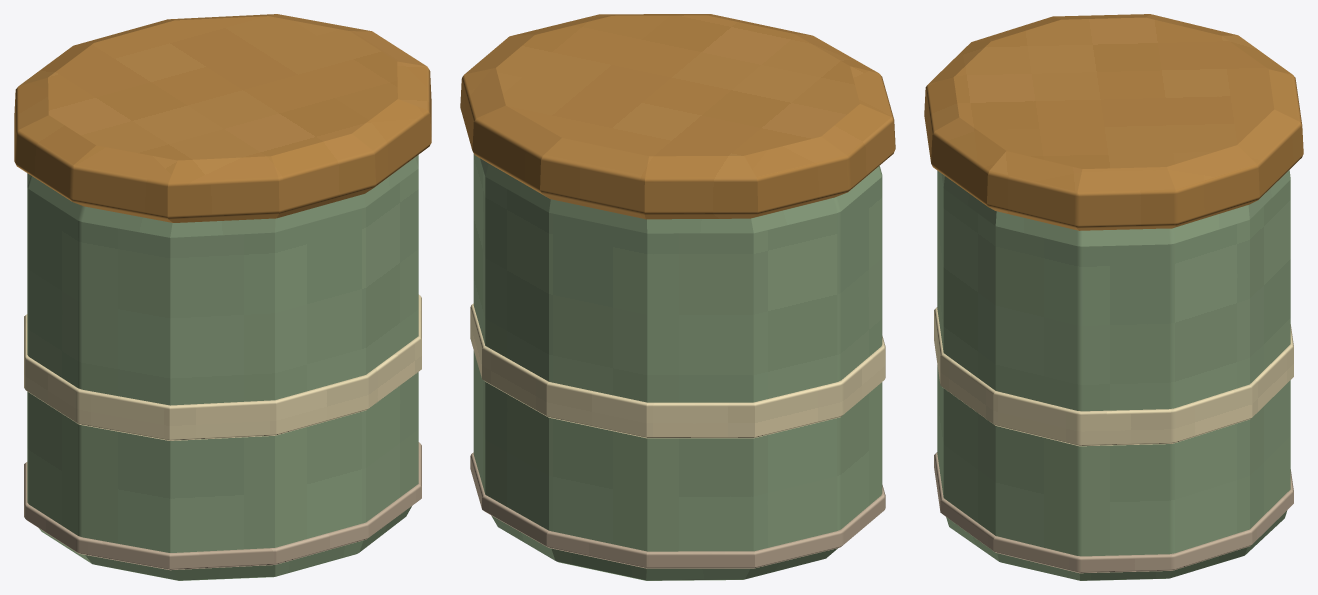
The model's file is BaySageTin.glb.
3 views of the same model, side by side, from view 1: azimuth 30°, elevation 25°; view 2: azimuth 150°, elevation 25°; view 3: azimuth 270°, elevation 25° (orthographic). The views are drawn at different scales.
Parts seen in each view (by area): view 1: BaySageTin.Tin, BaySageTin.Lid, BaySageTin.Enamel-stripe, BaySageTin.Base-seam; view 2: BaySageTin.Tin, BaySageTin.Lid, BaySageTin.Enamel-stripe, BaySageTin.Base-seam; view 3: BaySageTin.Tin, BaySageTin.Lid, BaySageTin.Enamel-stripe, BaySageTin.Base-seam.
Boxes of the visible parts, x1,y1,x2,y2 form: BaySageTin.Tin: [27, 155, 418, 580]; BaySageTin.Lid: [14, 14, 431, 222]; BaySageTin.Enamel-stripe: [24, 294, 421, 440]; BaySageTin.Base-seam: [24, 442, 421, 570]; BaySageTin.Tin: [473, 154, 882, 580]; BaySageTin.Lid: [460, 14, 895, 219]; BaySageTin.Enamel-stripe: [470, 303, 885, 438]; BaySageTin.Base-seam: [470, 452, 885, 568]; BaySageTin.Tin: [937, 170, 1290, 580]; BaySageTin.Lid: [924, 14, 1303, 230]; BaySageTin.Enamel-stripe: [934, 307, 1293, 446]; BaySageTin.Base-seam: [934, 452, 1293, 573].
Bounding box in the file's own units: 0.2088 × 0.2203 × 0.1844.
Materials: 4 (4 with a texture image).
